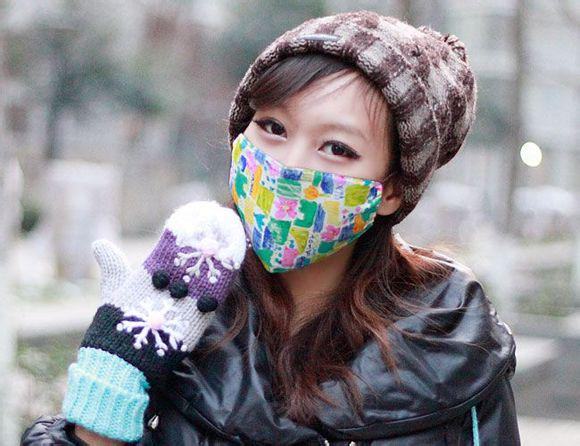OK: (232, 96, 402, 266)
